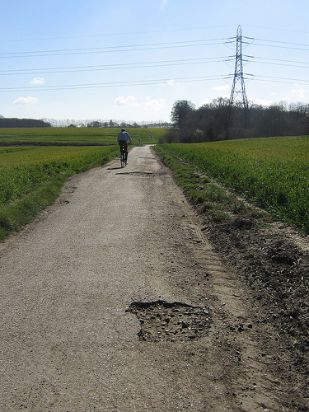pothole: (122, 297, 217, 345)
